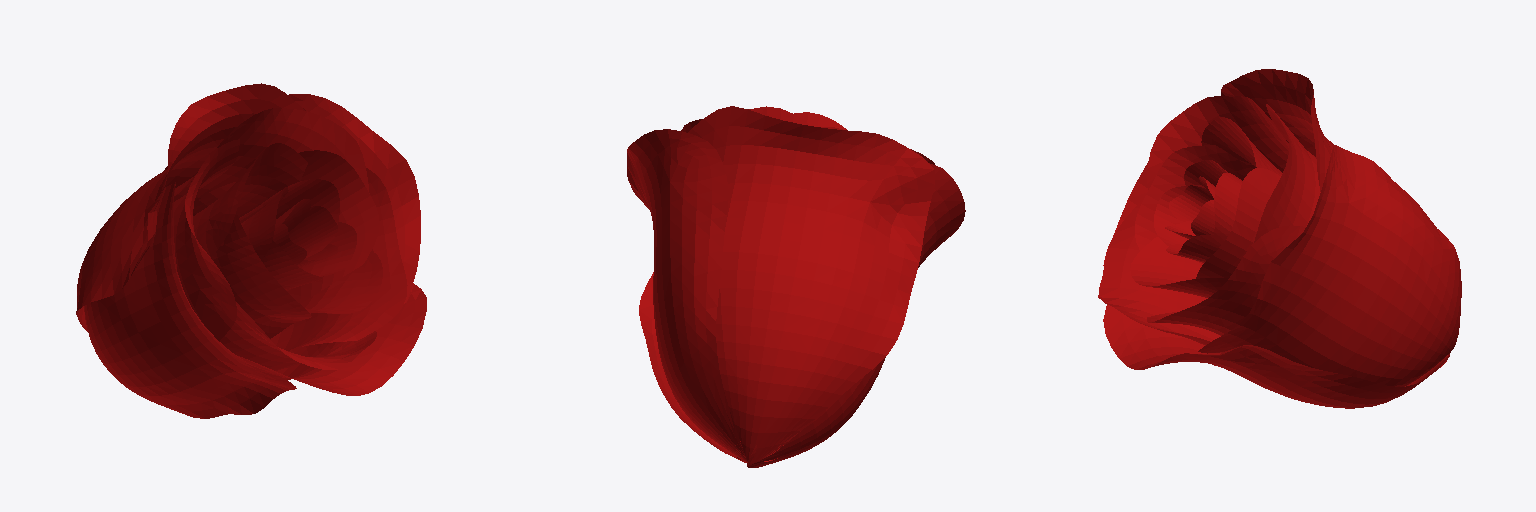
The model's file is rose.obj.
3 views of the same model, side by side, from view 1: azimuth 30°, elevation 25°; view 2: azimuth 150°, elevation 25°; view 3: azimuth 270°, elevation 25° (orthographic).
Visible parts, largest first — view 1: Roses_yellow:Flower; view 2: Roses_yellow:Flower; view 3: Roses_yellow:Flower.
Part boxes in pixels (bbox=[...]): Roses_yellow:Flower: bbox=[76, 83, 426, 418]; Roses_yellow:Flower: bbox=[627, 106, 965, 467]; Roses_yellow:Flower: bbox=[1098, 69, 1461, 408].
Bounding box in the file's own units: 90.58 × 89.89 × 93.98.